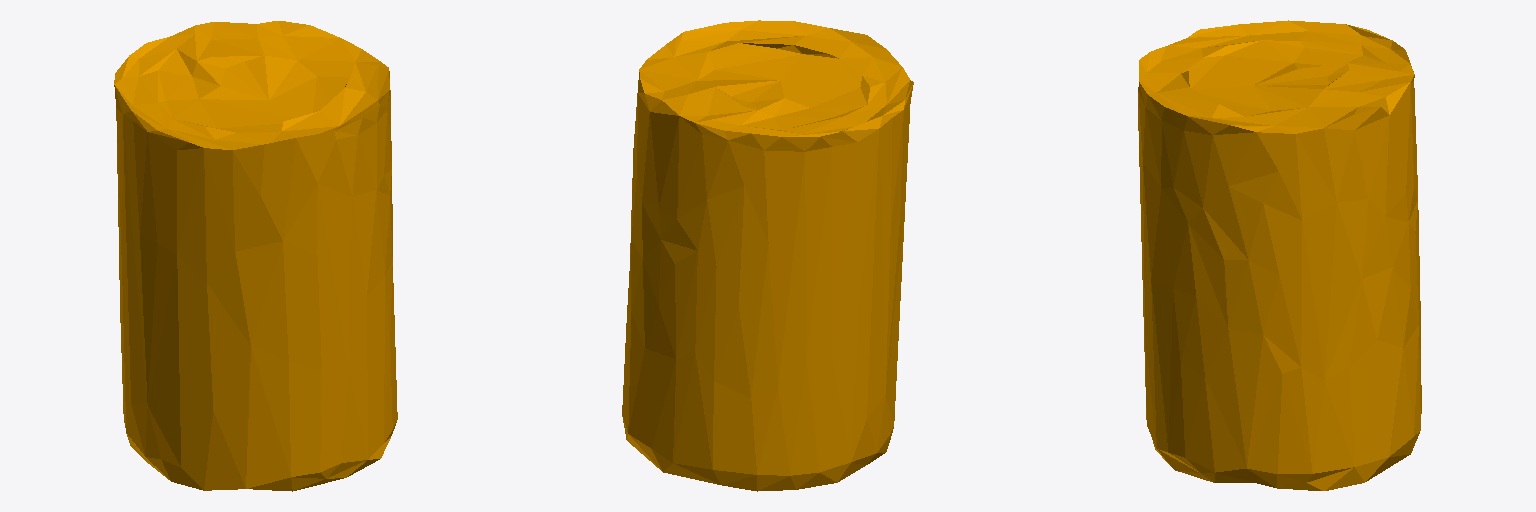
robot.urdf — Peas_800_tex:
<?xml version="1.0"?>
<robot name="Peas_800_tex">
  <link name="base_link">
    <contact>
      <lateral_friction value="1.0"/>
      <rolling_friction value="0.0"/>
      <contact_cfm value="0.0"/>
      <contact_erp value="1.0"/>
    </contact>
    <inertial>
      <mass value="0.0590703231188"/>
      <inertia ixx="1" ixy="0" ixz="0" iyy="1" iyz="0" izz="1"/>
    </inertial>
    <visual>
      <geometry>
        <mesh filename="Peas_800_tex_visual.obj"/>
      </geometry>
    </visual>
    <collision>
      <geometry>
        <mesh filename="Peas_800_tex_collision.obj"/>
      </geometry>
    </collision>
  </link>
</robot>

--- Render facts (derived) ---
3 views of the same robot in one strip: view 1: azimuth 30°, elevation 25°; view 2: azimuth 150°, elevation 25°; view 3: azimuth 270°, elevation 25° (orthographic).
Robot: Peas_800_tex — 1 links, 0 joints (none); root link base_link; default pose: every joint at zero.
Visible links, largest first — view 1: base_link; view 2: base_link; view 3: base_link.
Link boxes in pixels (left/top/right/bottom): base_link: left=114, top=21, right=397, bottom=491; base_link: left=622, top=20, right=913, bottom=491; base_link: left=1138, top=20, right=1421, bottom=490.
Bounding box of the posed robot: 0.0448 × 0.0436 × 0.063 m (x, y, z).
Meshes: 1 distinct files referenced, 1 mesh visuals loaded (1 OBJ).